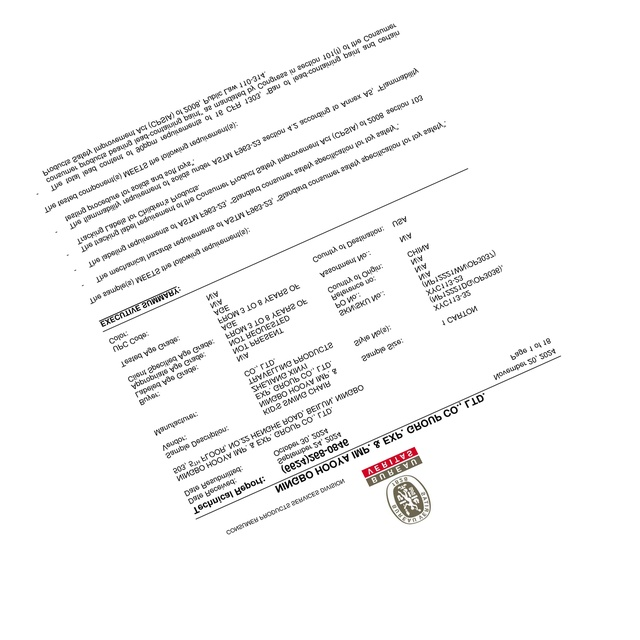bureau_veritas: (363, 445, 433, 526)
